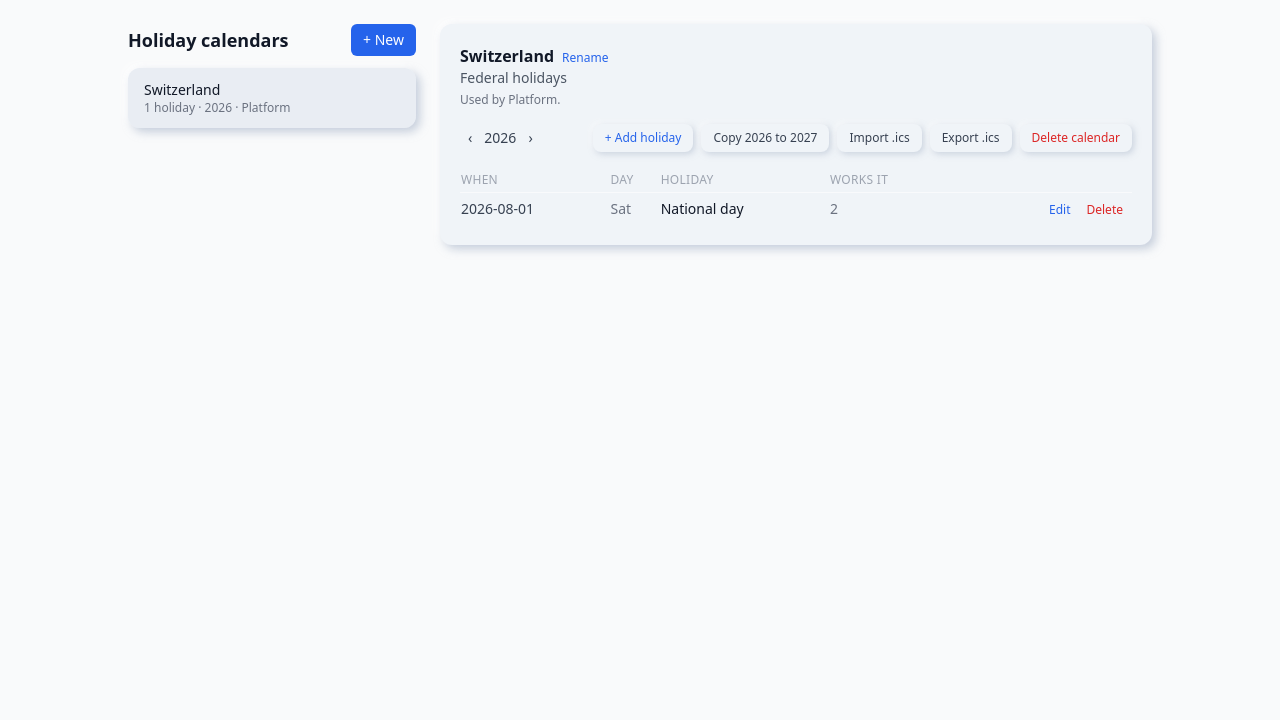
it: CalendarsPage — editing a calendar › deletes a holiday, warning that its "works this holiday" marks go with it
Check: the row "2026-08-01 Sat National day 2 Edit Delete" is shown, box [460,192,1132,225]
Click the button with aria-label "Delete National day" at (1105, 210), box [1078,202,1131,218]
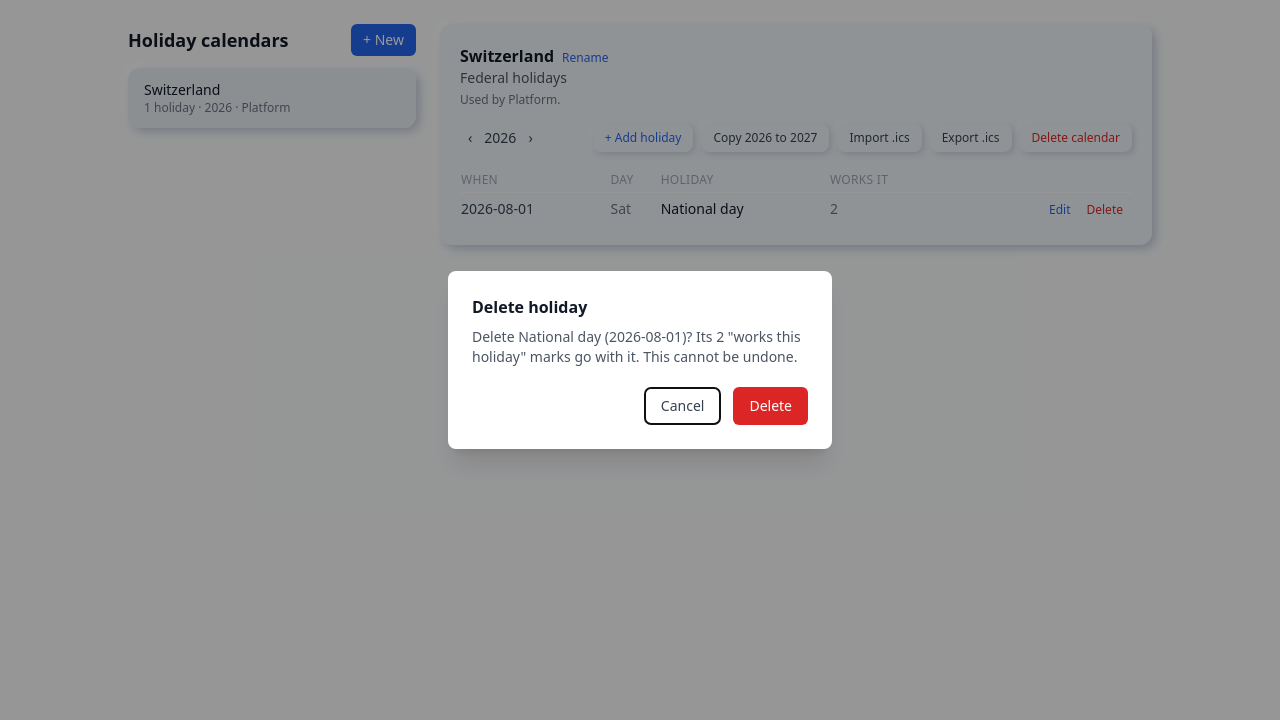
Check: the dialog "Delete holiday" shows "Delete National day (2026-08-01)? Its 2 \"works this holiday\" marks go with it. This cannot be undone.", box [472,327,801,366]
Click the button "Delete" at (771, 406), box [733,387,808,425]
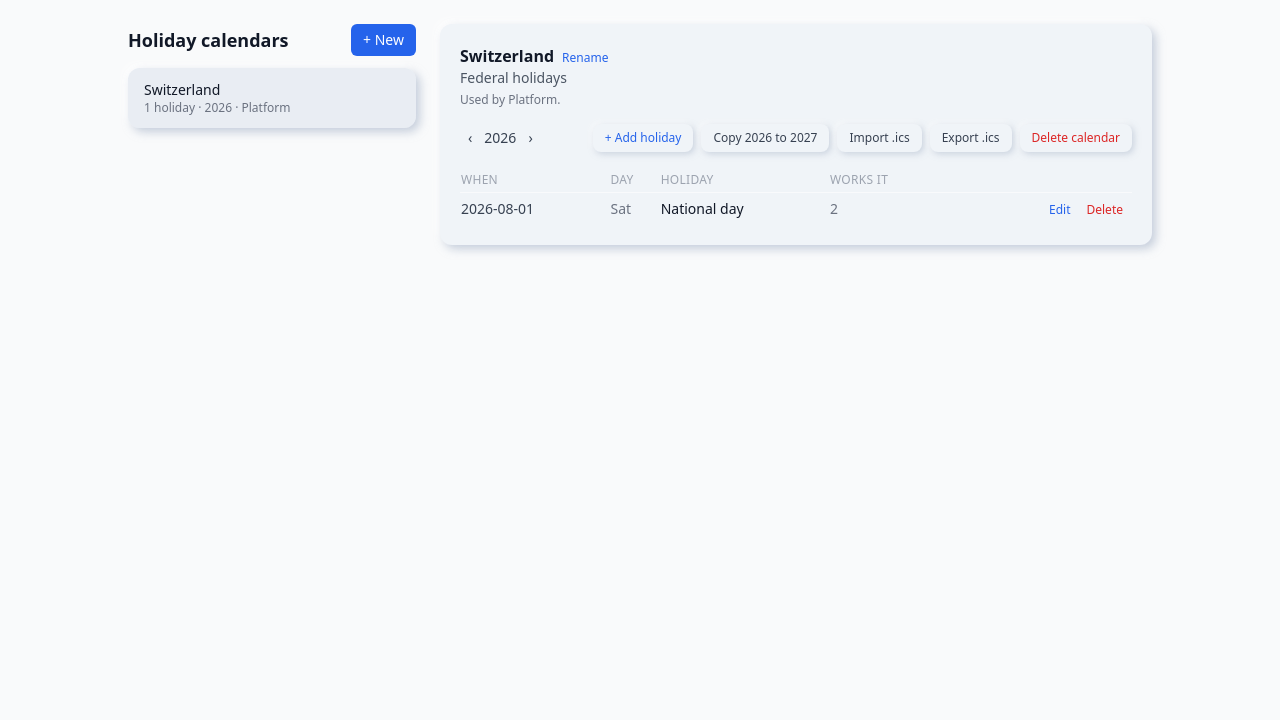
Check: the dialog is gone
